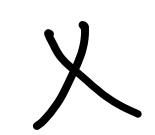mult: (31, 19, 141, 130)
